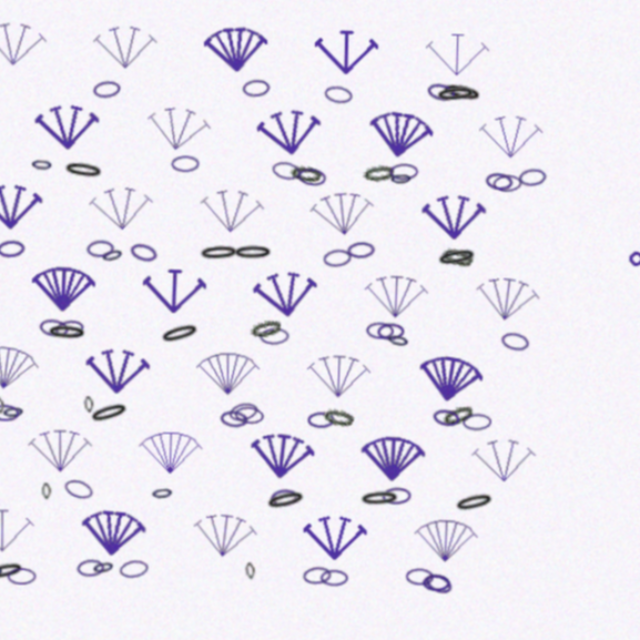chain: (184, 318, 223, 343), (122, 391, 161, 416), (283, 467, 322, 490), (453, 465, 492, 488), (31, 537, 70, 560), (432, 245, 471, 267), (433, 97, 472, 118), (440, 386, 471, 410), (94, 176, 132, 195), (428, 100, 466, 118), (218, 248, 256, 266), (368, 466, 406, 484), (265, 313, 296, 335), (428, 539, 456, 562), (101, 462, 130, 484), (437, 245, 467, 266), (248, 389, 277, 410), (249, 248, 286, 264), (83, 324, 120, 340), (155, 248, 183, 269), (364, 172, 394, 191), (333, 393, 363, 412), (282, 172, 310, 191), (90, 319, 118, 338), (153, 534, 181, 553), (420, 98, 447, 117), (492, 321, 519, 340), (299, 175, 328, 192), (119, 103, 146, 121), (330, 250, 357, 268), (76, 319, 103, 337), (432, 392, 459, 410), (129, 251, 153, 271), (328, 103, 354, 121), (505, 173, 531, 191), (288, 467, 314, 485), (254, 394, 281, 411), (254, 99, 280, 116), (306, 178, 332, 195), (475, 178, 501, 195), (36, 249, 62, 266), (117, 247, 143, 264), (352, 243, 378, 260), (241, 398, 267, 415), (115, 535, 141, 552), (319, 537, 345, 554), (128, 533, 151, 552), (482, 180, 509, 196), (275, 323, 302, 339), (389, 172, 415, 188), (460, 396, 486, 412), (389, 464, 415, 480), (389, 323, 412, 341), (381, 316, 406, 332), (34, 398, 60, 413), (53, 545, 79, 560), (192, 170, 217, 185), (371, 316, 396, 331), (320, 398, 345, 413), (335, 540, 360, 555), (427, 542, 452, 557), (412, 537, 437, 552), (44, 396, 66, 413), (180, 466, 202, 483), (65, 173, 86, 189), (389, 178, 410, 194), (29, 541, 50, 556), (37, 391, 48, 407), (267, 535, 277, 551), (118, 389, 128, 404), (22, 97, 31, 112), (82, 468, 91, 483)
fan: (267, 122, 329, 172), (367, 122, 429, 172), (267, 268, 329, 318), (417, 341, 479, 391), (167, 122, 228, 171), (317, 195, 378, 244), (17, 341, 78, 390), (467, 269, 528, 317), (268, 415, 328, 463), (218, 488, 278, 536), (218, 50, 278, 97), (118, 196, 178, 243), (68, 124, 127, 170), (118, 489, 177, 535), (218, 197, 277, 242), (19, 51, 77, 96), (469, 416, 527, 461), (119, 52, 177, 96), (19, 198, 77, 242), (419, 198, 477, 242), (119, 344, 177, 388), (69, 417, 127, 461), (369, 417, 427, 461), (69, 271, 126, 315), (369, 271, 426, 315), (219, 344, 276, 388), (319, 344, 376, 388), (19, 490, 76, 534), (419, 490, 476, 534), (319, 52, 376, 95), (419, 52, 476, 95), (469, 125, 526, 168), (169, 271, 226, 314), (169, 417, 226, 460), (319, 490, 376, 533)
noise: (605, 245, 621, 261)
